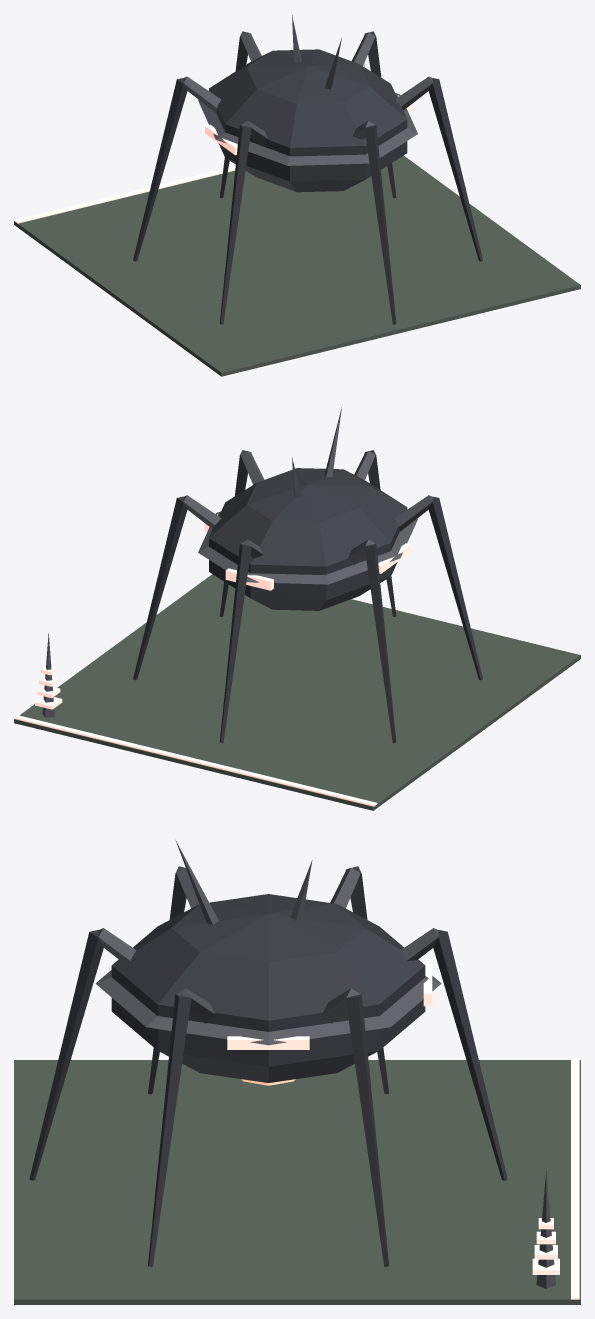
File: zone_low_2_t4.glb
3 views of the same model, one above another, from view 1: azimuth 30°, elevation 25°; view 2: azimuth 150°, elevation 25°; view 3: azimuth 270°, elevation 25° (orthographic). The views are drawn at different scales.
Parts seen in each view (by area): view 1: zone_low_2_t4, detail; view 2: zone_low_2_t4, detail; view 3: zone_low_2_t4, detail.
Part boxes in pixels (x1,y1,x2,y2): zone_low_2_t4: [14, 31, 580, 376]; detail: [14, 15, 411, 223]; zone_low_2_t4: [14, 450, 580, 810]; detail: [14, 407, 411, 806]; zone_low_2_t4: [14, 866, 580, 1304]; detail: [175, 840, 579, 1299].
Bounding box in the file's own units: 19.6 × 13.2 × 19.6.
